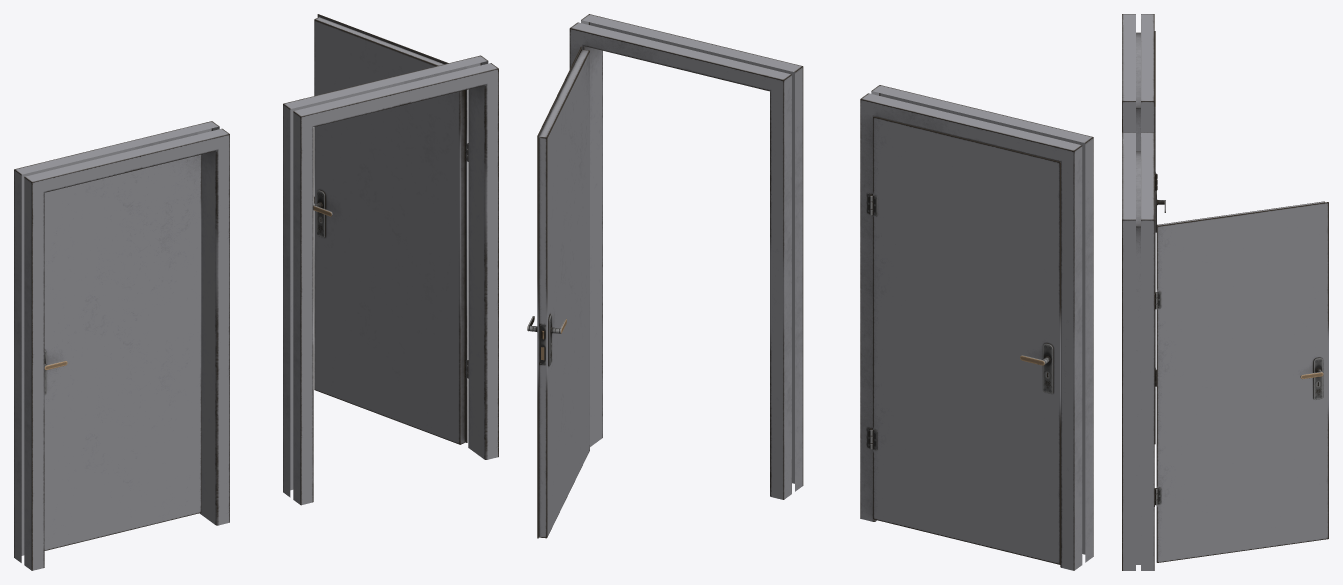
The picture shows the model from 3 angles, left to right: view 1: azimuth 30°, elevation 25°; view 2: azimuth 150°, elevation 25°; view 3: azimuth 270°, elevation 25°; orthographic projection. The views are drawn at different scales.
Parts seen in each view (by area): view 1: door, door_2, f_2, f; view 2: door, f_2, f, door_2, handel; view 3: door_2, f_2, f, door, handel_2.
Boxes of the visible parts, x1,y1,x2,y2 form: door: (44,154,201,550); door_2: (314,14,468,444); f_2: (283,55,498,505); f: (14,121,229,570); door: (869,116,1060,564); f_2: (569,14,803,499); f: (860,85,1093,570); door_2: (537,46,589,538); handel: (1020,343,1053,393); door_2: (1154,201,1328,562); f_2: (1122,132,1154,570); f: (1122,14,1154,387); door: (1154,31,1157,444); handel_2: (1300,357,1323,399).
Bounding box in the file's own units: 3.03 × 2.41 × 1.29.
1 material, 1 textured.
